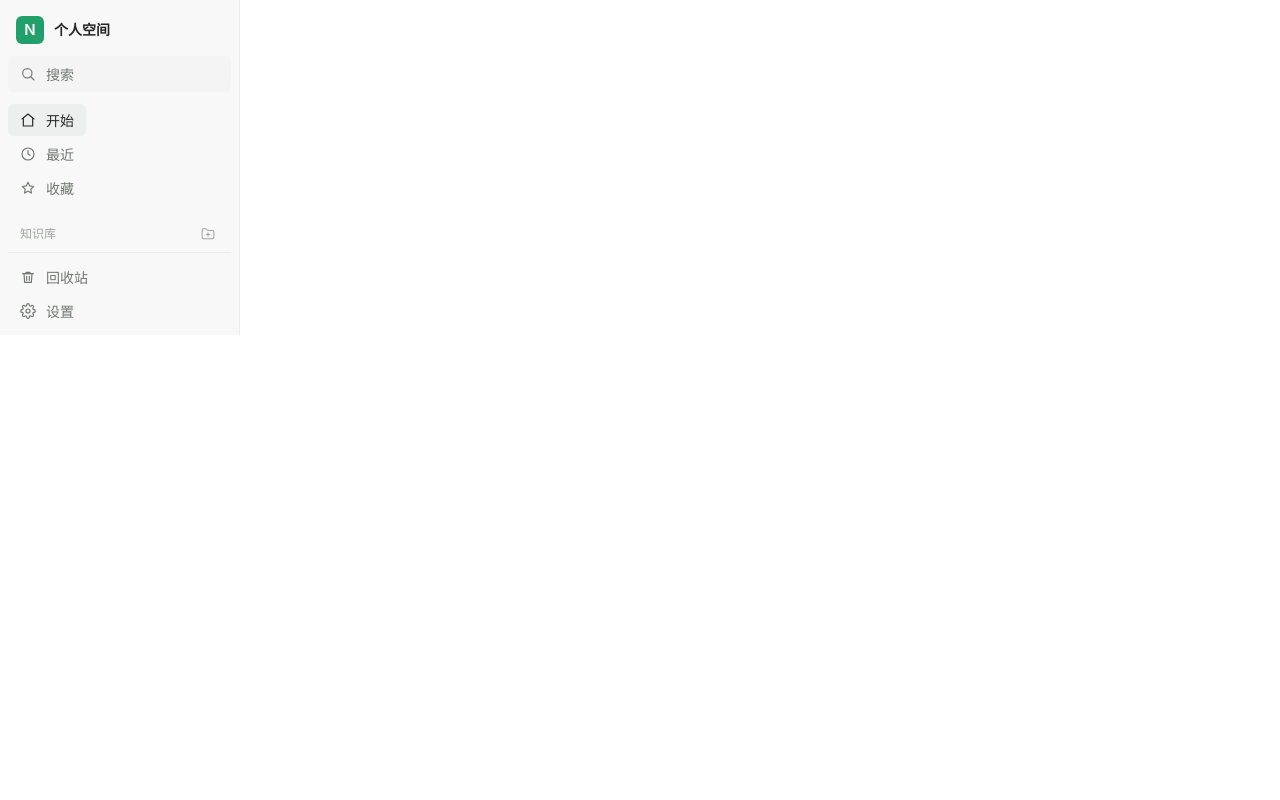
Scenario: GlobalSidebar（Desktop 能力，R006 阶段 2 / C2.1） › 未初始化目录：「仅预览」入库列表并带（预览）后缀
Click the button named "打开本地知识库". click: click(208, 234)
box: [197,223,219,245]
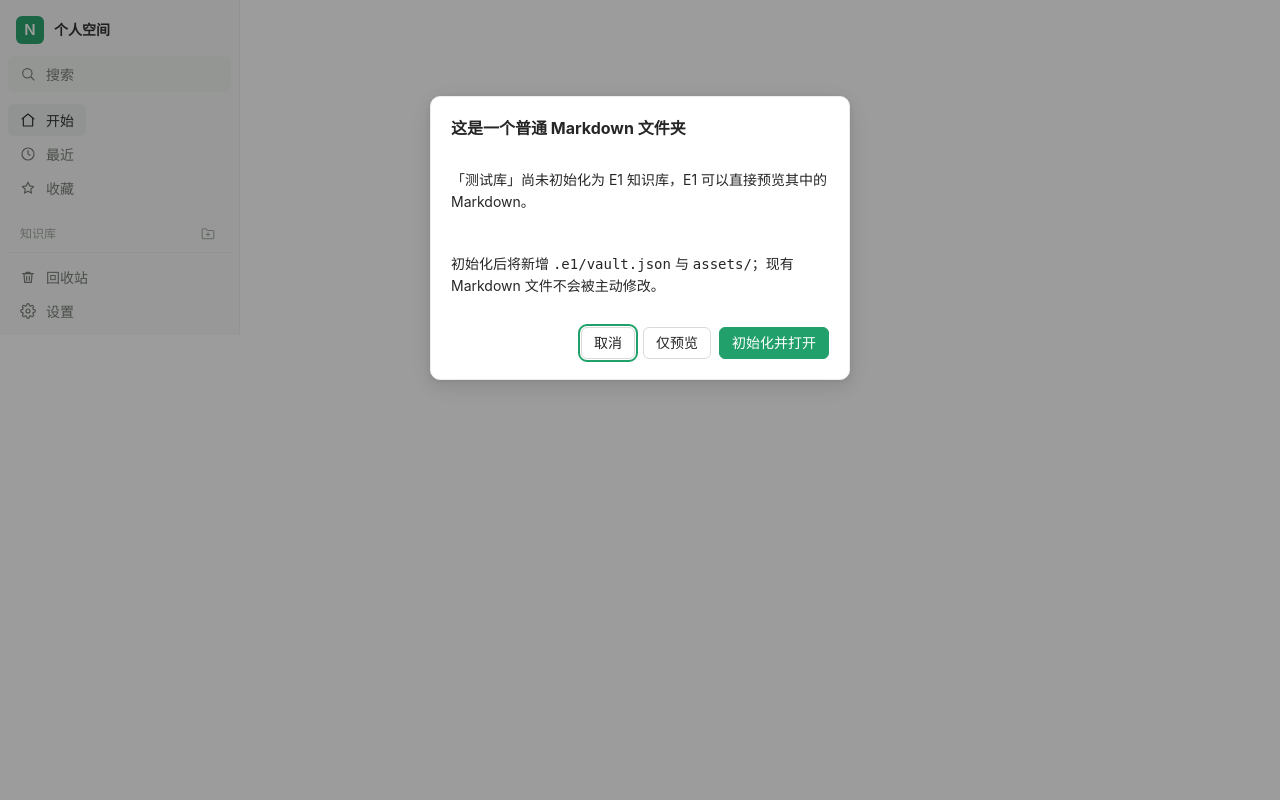
Now the dialog named "打开本地文件夹" is shown, box [430,96,850,380]
Click the button "仅预览". click: click(677, 343)
box: [643,327,711,359]
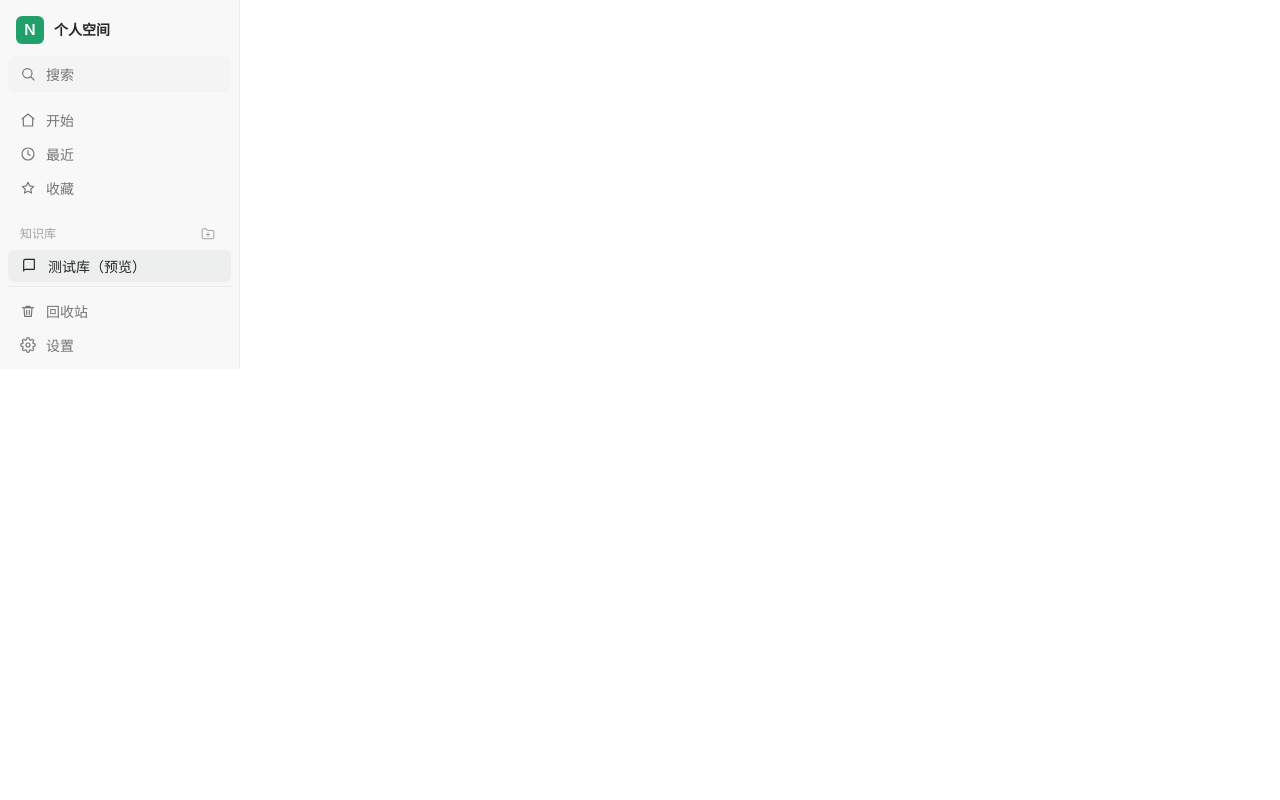
Now the button with aria-label "知识库「测试库（预览）」" is shown, box [8,250,231,282]
